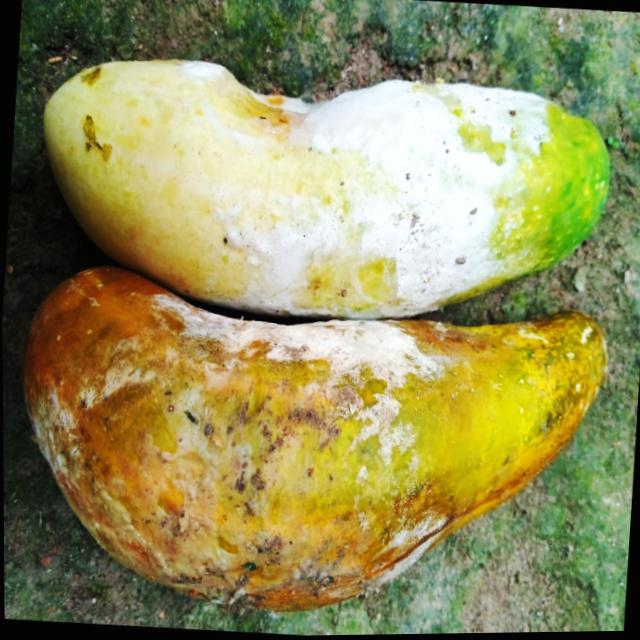Pythium-Fruit-Rot: (22, 277, 512, 630), (152, 53, 568, 342)
